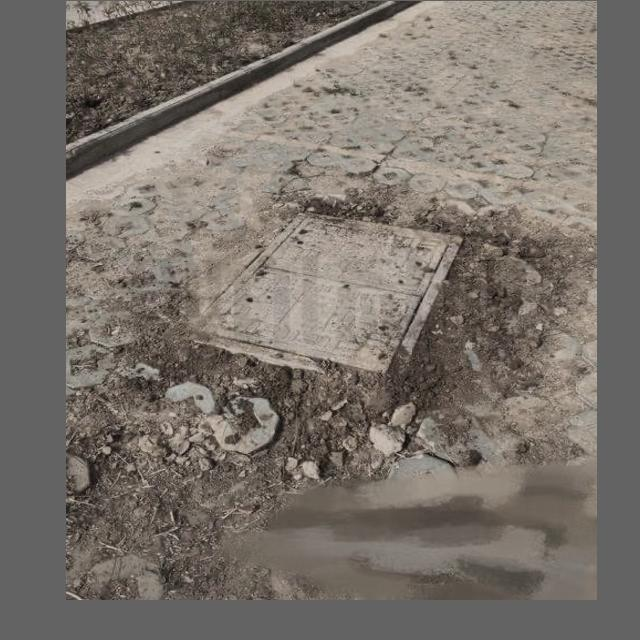circle: (164, 207, 488, 404)
